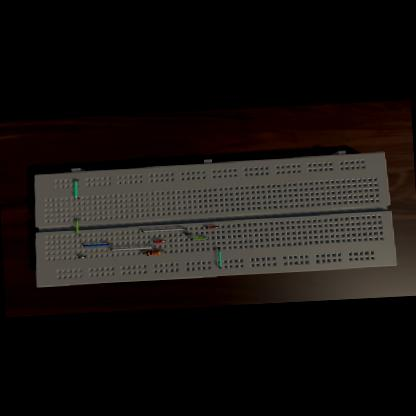breadboard: (30, 148, 397, 287)
resistor: (145, 250, 160, 256)
wire: (141, 228, 185, 232), (110, 246, 154, 250), (82, 243, 112, 247), (74, 180, 78, 198), (76, 218, 80, 235), (218, 247, 221, 268), (190, 237, 207, 240), (206, 225, 218, 228), (152, 240, 164, 243), (186, 233, 192, 235), (78, 256, 86, 257), (160, 251, 166, 252), (142, 252, 144, 253)
